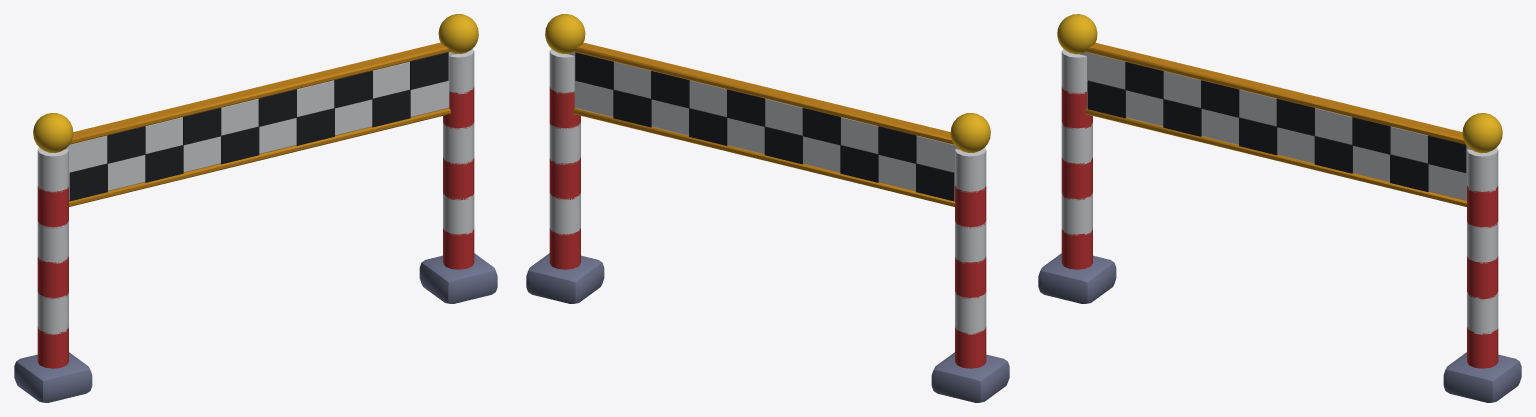
Rendered from p_gate.glb.
3 renders of one model, left to right at view 1: azimuth 30°, elevation 25°; view 2: azimuth 150°, elevation 25°; view 3: azimuth 330°, elevation 25°, orthographic.
Parts seen in each view (by area): view 1: body; view 2: body; view 3: body.
Part boxes in pixels (bbox=[...]): body: bbox=[14, 14, 497, 402]; body: bbox=[526, 14, 1009, 402]; body: bbox=[1038, 14, 1521, 402].
Bounding box in the file's own units: 6.8 × 3.9 × 0.8.
